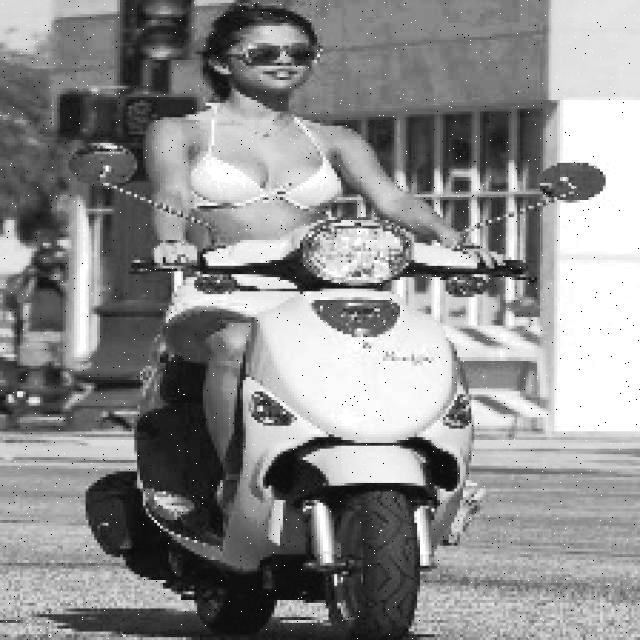Bike: (153, 226, 467, 632)
